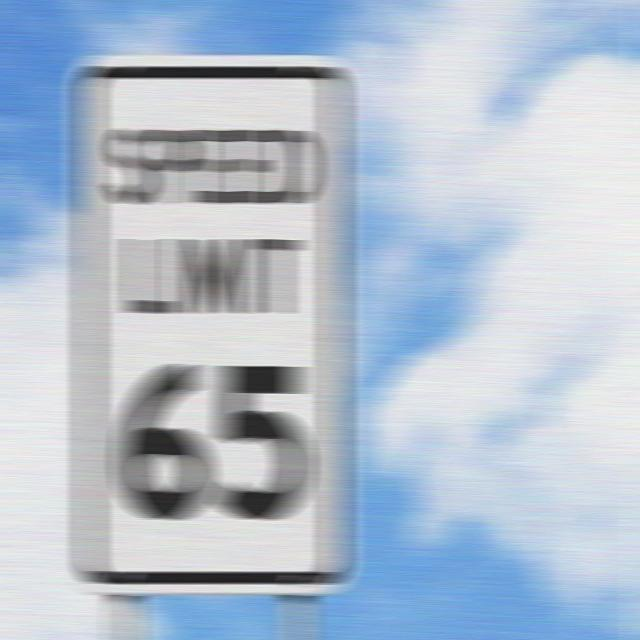speedLimit65: (72, 54, 354, 597)
